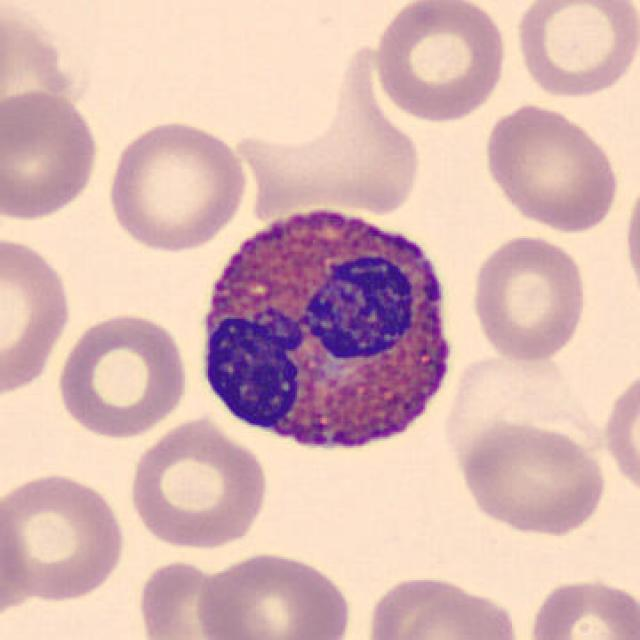Eosinophil: (188, 192, 470, 467)
RBC: (236, 51, 429, 215), (124, 414, 272, 554), (103, 116, 249, 254), (478, 98, 622, 234), (452, 416, 612, 538), (53, 308, 192, 441), (0, 469, 130, 605), (369, 0, 510, 123), (468, 231, 590, 365), (194, 548, 356, 640), (0, 86, 103, 222), (510, 0, 640, 100), (0, 229, 75, 400), (132, 555, 258, 640), (524, 573, 638, 640), (388, 585, 524, 640), (601, 360, 638, 506), (620, 162, 640, 305)
